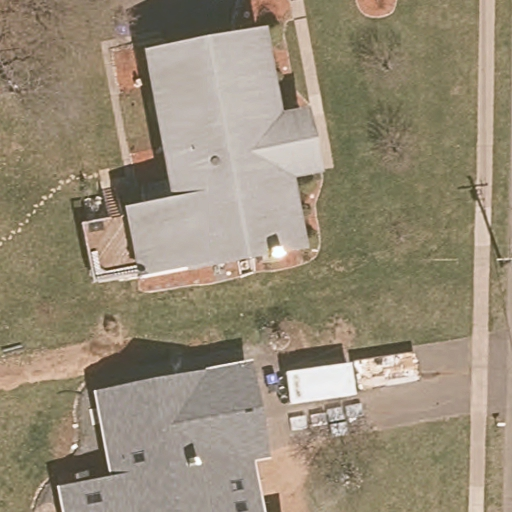DT: (495, 251, 512, 267)
